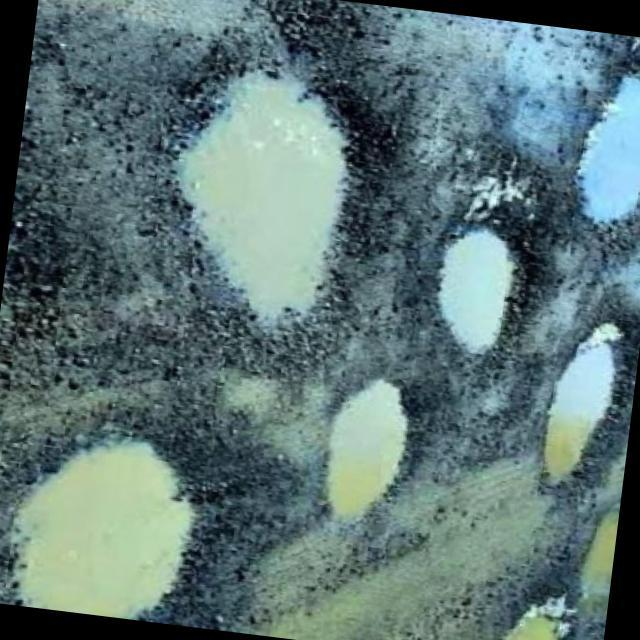pothole: (160, 58, 380, 326), (0, 418, 211, 626), (418, 170, 551, 374), (538, 311, 632, 490), (312, 363, 412, 522), (560, 50, 640, 236), (480, 586, 583, 640), (575, 496, 620, 618)
